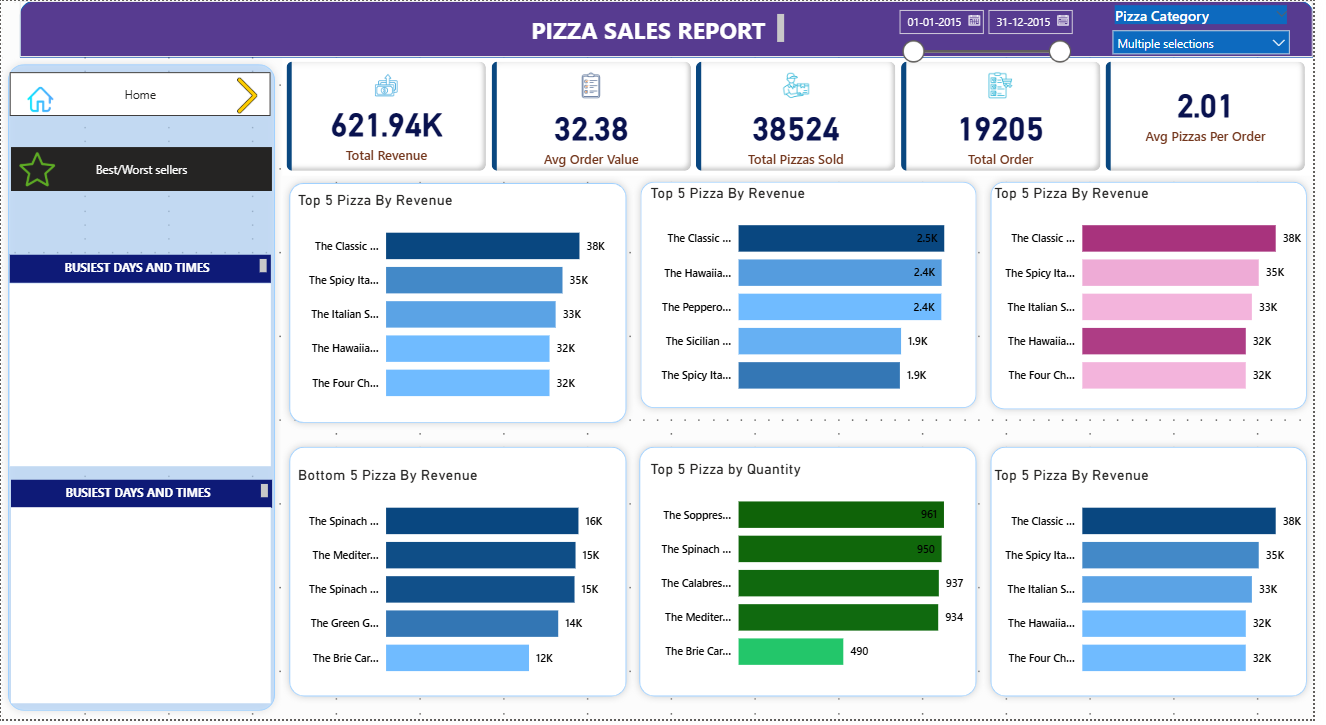

Layout of this report page (visuals, bound fields, positions):
{"tool":"powerbi","page":{"name":"Best/Worst sellers","canvas":[1500,820],"ordinal":1},"visuals":[{"type":"shape","box":[0,64.8,321.1,754.9],"z":0},{"type":"cardVisual","fields":{"Data":["pizza_sales.Total Revenue","pizza_sales.Avg Order Value","pizza_sales.Total Pizzas Sold","pizza_sales.Total Order","pizza_sales.Avg Pizzas Per Order"]},"box":[321.1,64.8,1178.9,135.2],"z":1000},{"type":"shape","box":[21.1,0,1478.9,64.8],"z":2000},{"type":"textbox","box":[601.4,9.9,298.6,43.7],"z":3000},{"type":"shape","box":[321.1,200,401.4,290.1],"z":4000},{"type":"textbox","box":[9.9,290.1,298.6,32.4],"z":5000},{"type":"textbox","box":[9.9,322.5,298.6,208.5],"z":6000},{"type":"textbox","box":[11.3,546.5,298.6,32.4],"z":7000},{"type":"textbox","box":[11.3,578.9,297.2,223.9],"z":8000},{"type":"slicer","fields":{"Values":["pizza_sales.pizza_category"]},"box":[1260.6,0,222.5,64.8],"z":9000},{"type":"slicer","fields":{"Values":["pizza_sales.order_date"]},"box":[1014.1,0,216.9,74.6],"z":10000},{"type":"shape","box":[722.5,198.6,400,274.6],"z":11000},{"type":"shape","box":[321.1,501.4,401.4,301.4],"z":12000},{"type":"shape","box":[1122.5,198.6,377.5,276.1],"z":13000},{"type":"shape","box":[721.1,501.4,401.4,301.4],"z":14000},{"type":"shape","box":[1122.5,501.4,377.5,301.4],"z":15000},{"type":"barChart","title":"Top 5 Pizza By Revenue","fields":{"Category":["pizza_sales.pizza_name"],"Y":["pizza_sales.Total Revenue"]},"box":[333.8,216.9,370.4,256.3],"z":16000},{"type":"barChart","title":"Bottom 5 Pizza By Revenue","fields":{"Category":["pizza_sales.pizza_name"],"Y":["pizza_sales.Total Revenue"]},"box":[333.8,531,370.4,256.3],"z":17000},{"type":"barChart","title":"Top 5 Pizza by Quantity","fields":{"Category":["pizza_sales.pizza_name"],"Y":["pizza_sales.Total Pizzas Sold"]},"box":[736.6,523.9,370.4,256.3],"z":18000},{"type":"barChart","title":"Top 5 Pizza By Revenue","fields":{"Category":["pizza_sales.pizza_name"],"Y":["pizza_sales.Total Pizzas Sold"]},"box":[736.6,208.5,370.4,256.3],"z":19000},{"type":"barChart","title":"Top 5 Pizza By Revenue","fields":{"Category":["pizza_sales.pizza_name"],"Y":["pizza_sales.Total Revenue"]},"box":[1129.6,208.5,370.4,256.3],"z":20000},{"type":"barChart","title":"Top 5 Pizza By Revenue","fields":{"Category":["pizza_sales.pizza_name"],"Y":["pizza_sales.Total Revenue"]},"box":[1129.6,531,370.4,256.3],"z":21000},{"type":"pageNavigator","box":[10.1,81.2,298.6,50.7],"z":22000},{"type":"pageNavigator","box":[11.6,166.7,298.6,50.7],"z":23000},{"type":"image","box":[250.7,82.6,59.4,50.7],"z":24000},{"type":"image","box":[21.7,92.8,47.8,39.1],"z":25000},{"type":"image","box":[11.6,166.7,59.4,50.7],"z":26000}]}

Visuals, with their boxes in screenshot pixels (x1, y1, x2, y2), scaled from the page's 1500x820 canvas onto the 1326x725 screenshot:
shape: [0,57,284,724]
cardVisual - pizza_sales.Total Revenue x pizza_sales.Avg Order Value: [284,57,1325,177]
shape: [19,0,1325,57]
textbox: [532,9,796,47]
shape: [284,177,639,433]
textbox: [9,256,273,285]
textbox: [9,285,273,469]
textbox: [10,483,274,512]
textbox: [10,512,273,710]
slicer - pizza_sales.pizza_category: [1114,0,1311,57]
slicer - pizza_sales.order_date: [896,0,1088,66]
shape: [639,176,992,418]
shape: [284,443,639,710]
shape: [992,176,1325,420]
shape: [637,443,992,710]
shape: [992,443,1325,710]
"Top 5 Pizza By Revenue" barChart: [295,192,623,418]
"Bottom 5 Pizza By Revenue" barChart: [295,469,623,696]
"Top 5 Pizza by Quantity" barChart: [651,463,979,690]
"Top 5 Pizza By Revenue" barChart: [651,184,979,411]
"Top 5 Pizza By Revenue" barChart: [999,184,1325,411]
"Top 5 Pizza By Revenue" barChart: [999,469,1325,696]
pageNavigator: [9,72,273,117]
pageNavigator: [10,147,274,192]
image: [222,73,274,118]
image: [19,82,61,117]
image: [10,147,63,192]
